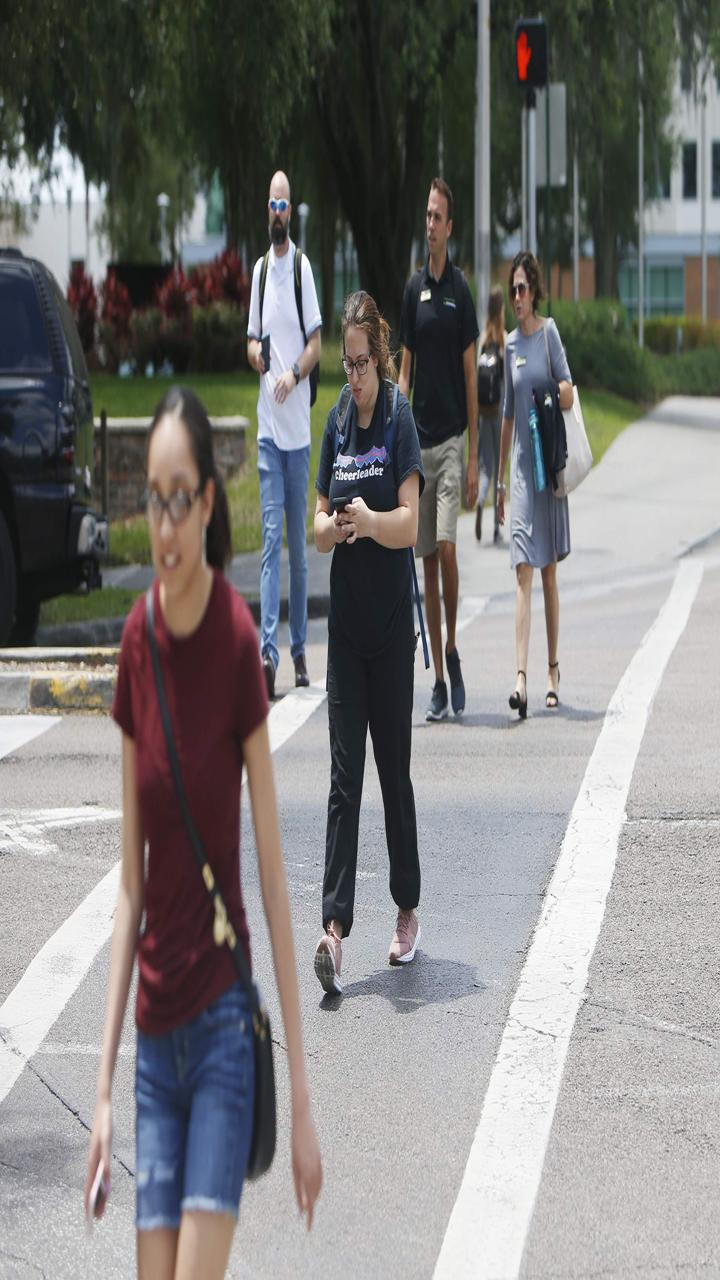Traffic sign: (494, 13, 582, 99)
pedestrian: (79, 389, 319, 1277), (310, 296, 455, 1007), (487, 251, 627, 719), (236, 156, 327, 695), (412, 157, 479, 729)
